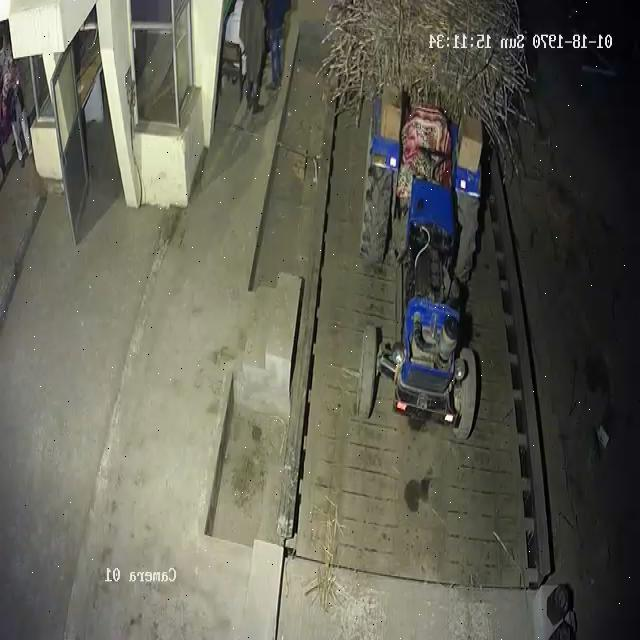Tratores - v5 YOLO V8L 2024-11-13: (347, 109, 495, 452)
